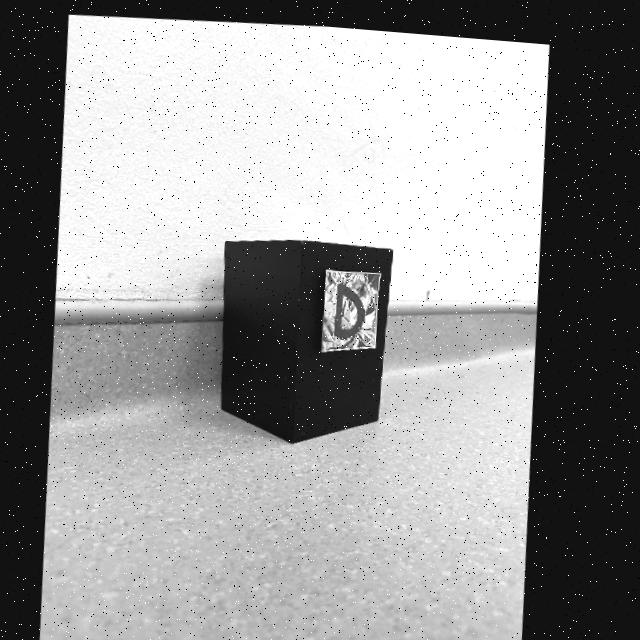D: (339, 277, 369, 332)
